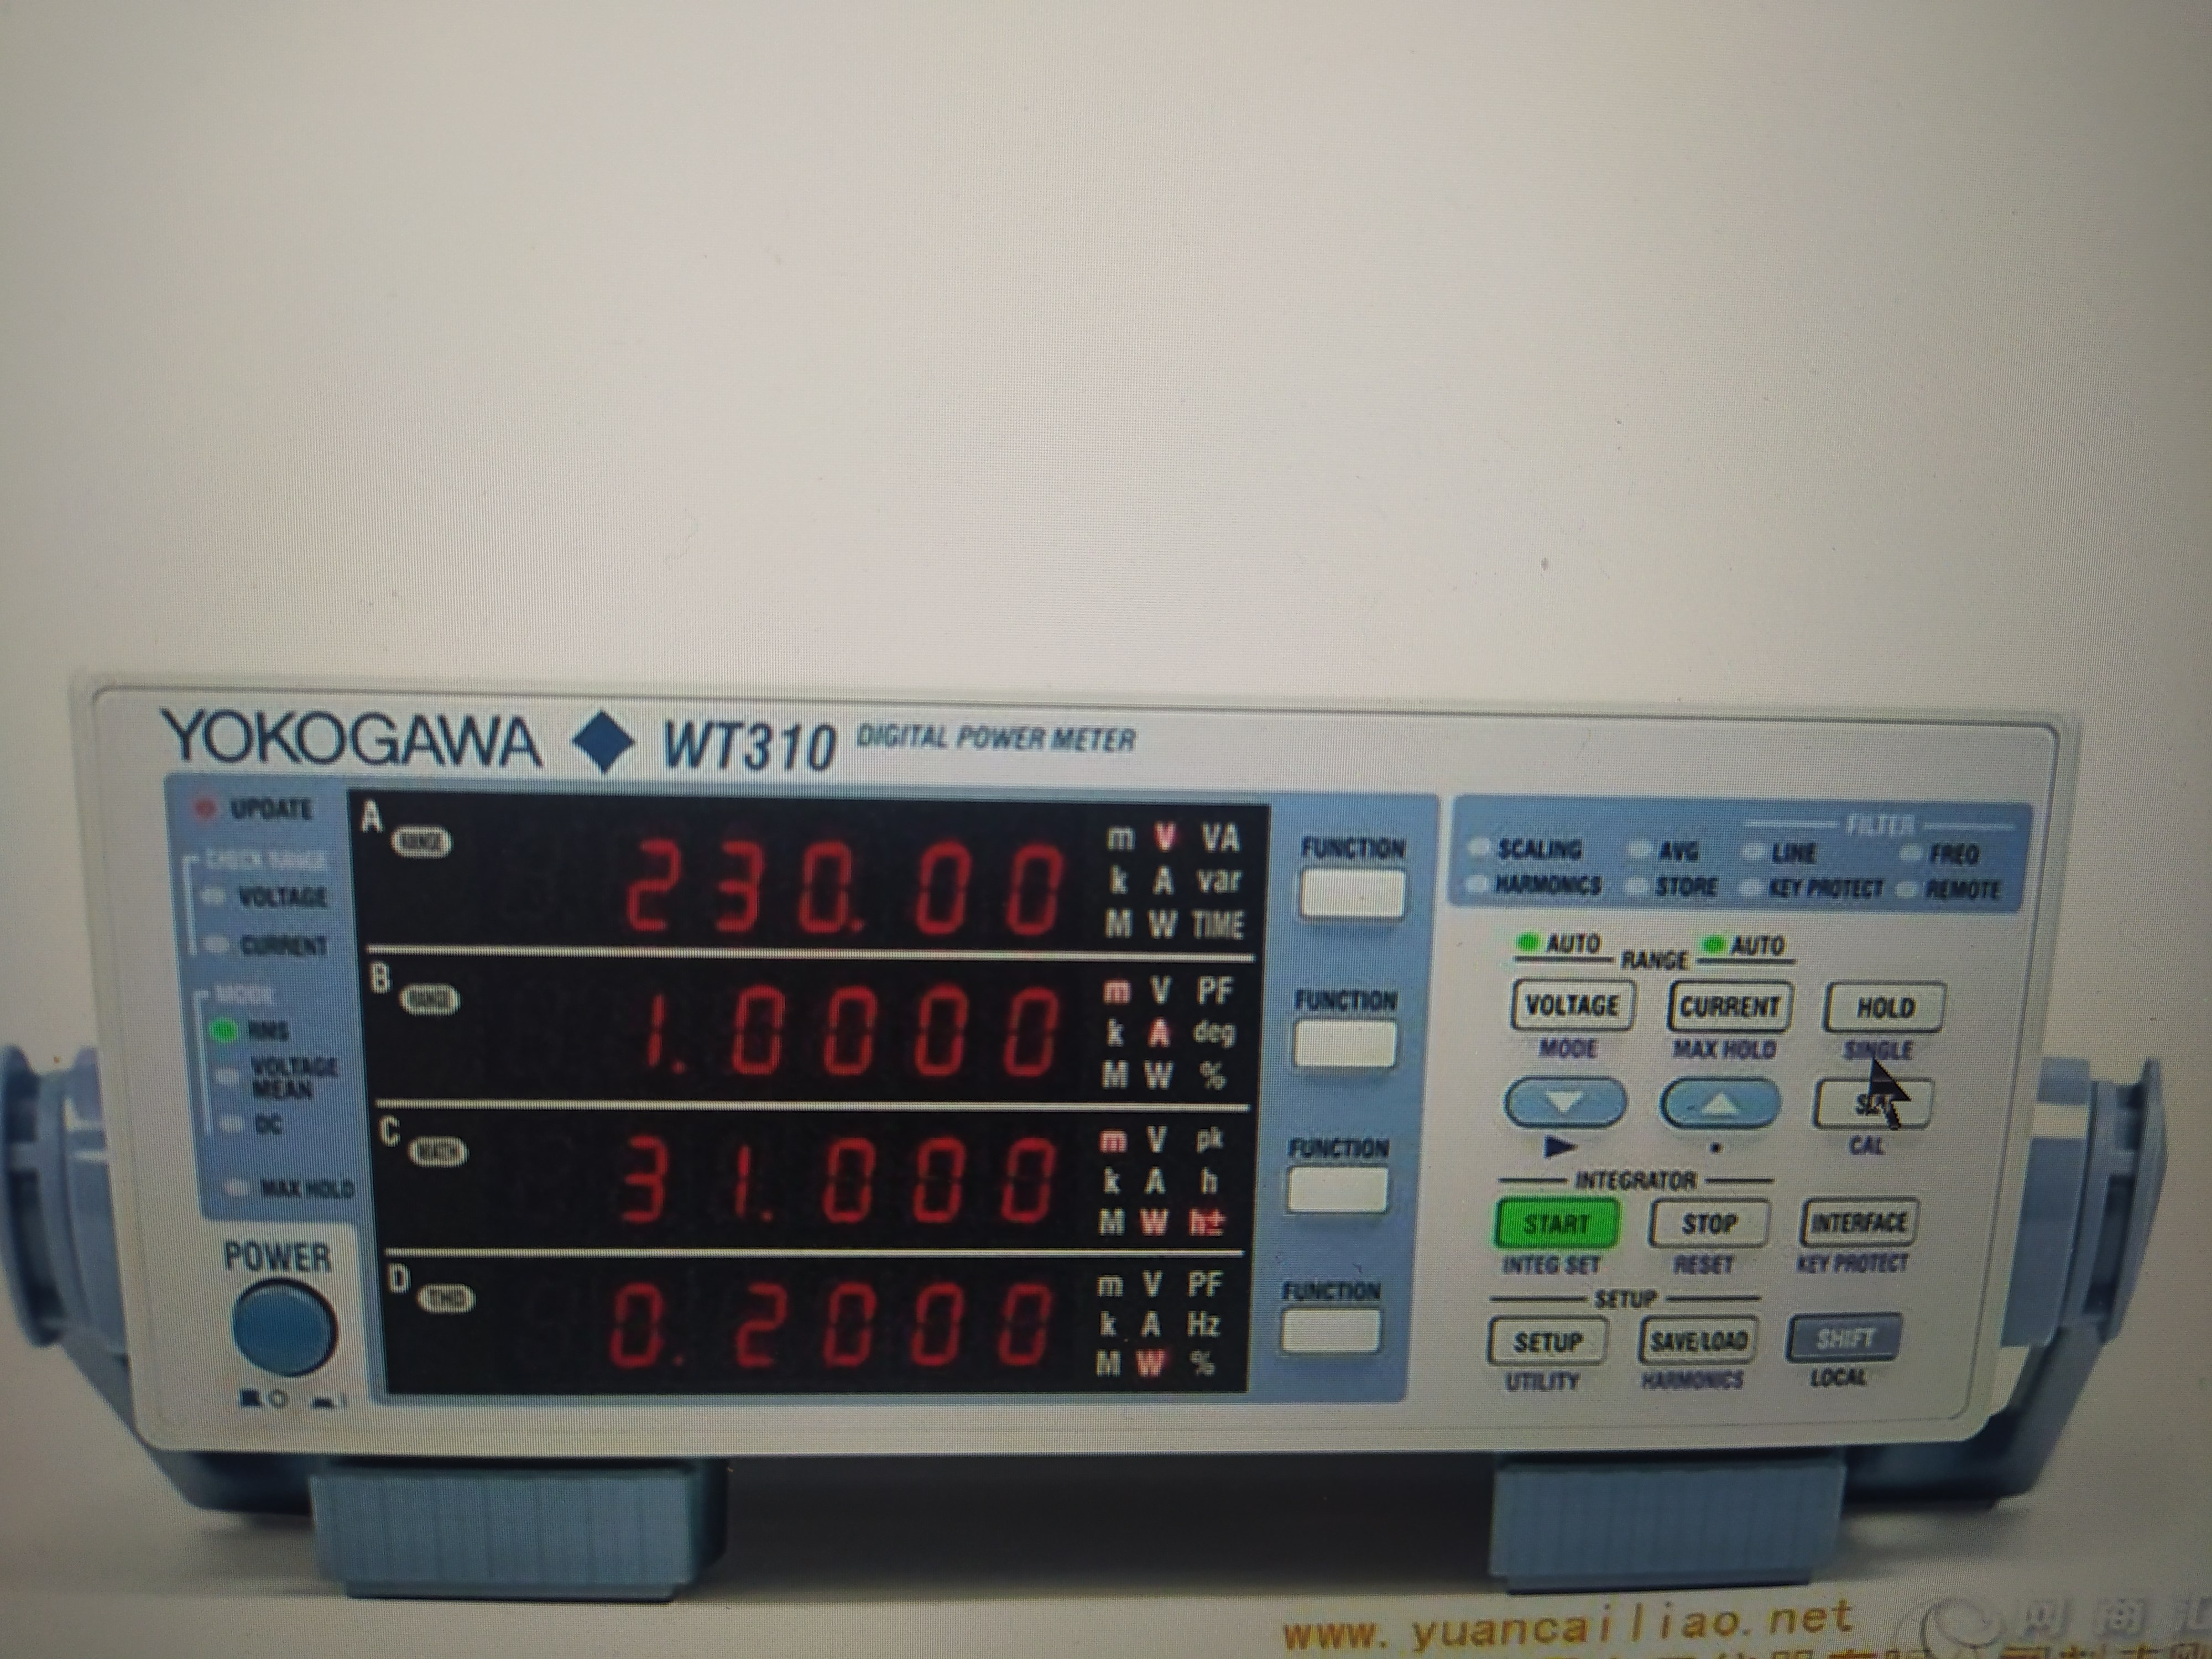.: (669, 1279, 691, 1378), (669, 992, 686, 1073), (852, 835, 866, 936), (761, 1136, 777, 1225)
0: (902, 1277, 970, 1375), (995, 1274, 1059, 1377), (725, 985, 789, 1079), (819, 981, 880, 1077), (913, 981, 972, 1079), (796, 835, 852, 938), (1007, 842, 1066, 938), (1000, 1133, 1059, 1229), (820, 1279, 880, 1375), (610, 1277, 665, 1378), (918, 838, 974, 934), (1005, 985, 1062, 1077), (820, 1136, 880, 1223), (913, 1134, 968, 1227), (810, 714, 840, 777)
1: (730, 1134, 761, 1222), (646, 990, 669, 1072), (779, 718, 806, 777)
2: (627, 838, 685, 931), (738, 1279, 787, 1375)
3: (714, 838, 768, 934), (624, 1127, 672, 1229), (744, 720, 775, 774)
